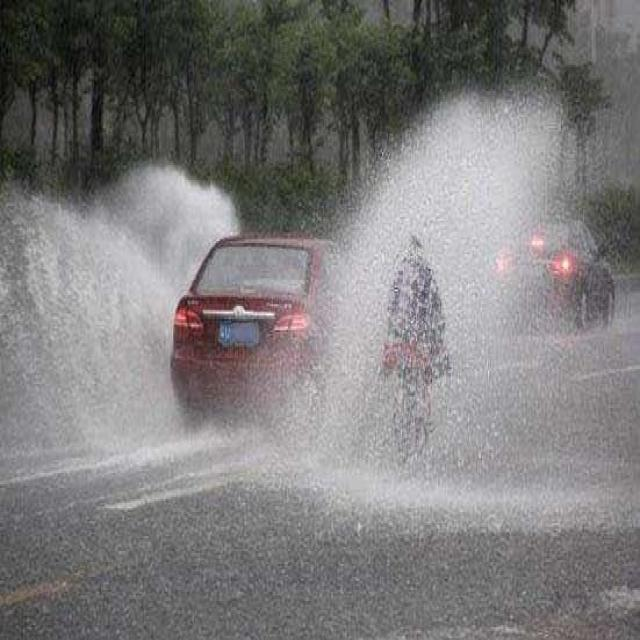car: (167, 232, 375, 436), (494, 220, 614, 328)
